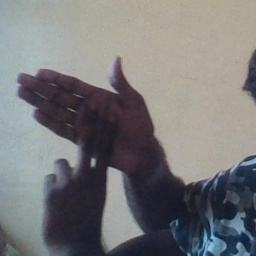N: (12, 50, 141, 208)
